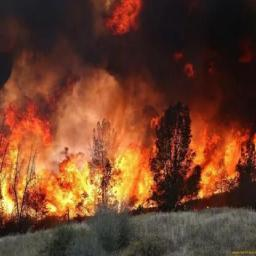Heavy smoke: (0, 20, 256, 159)
Large fire: (0, 130, 255, 228)
